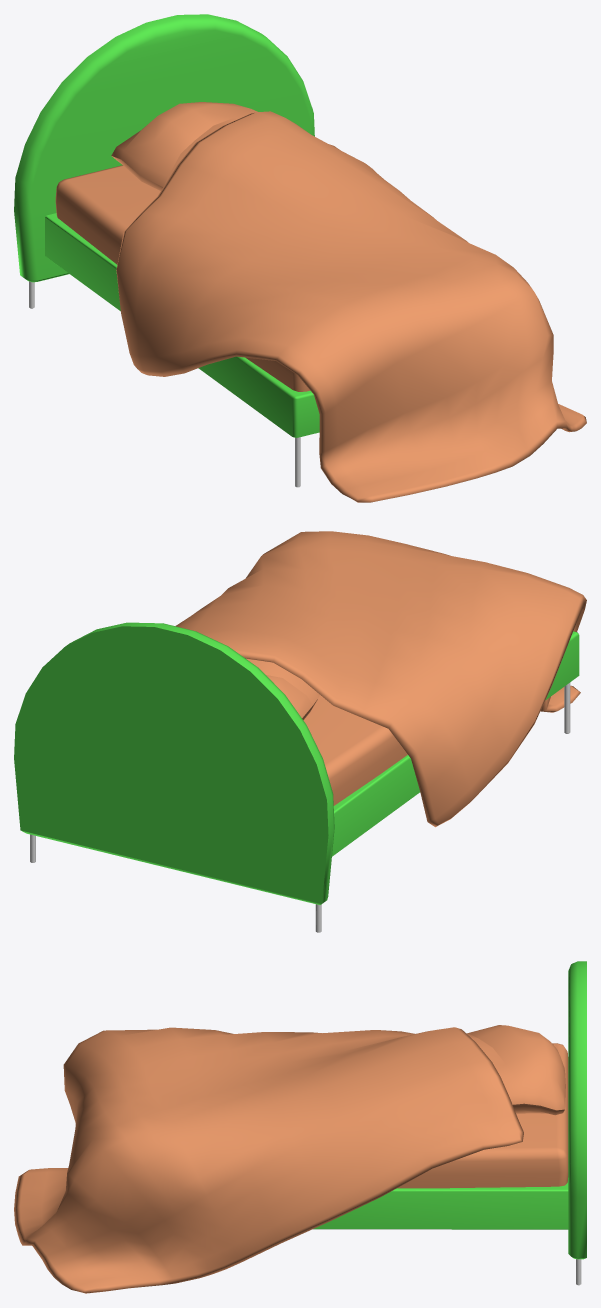
The model's file is bed.fbx.
The picture shows the model from 3 angles, top to bottom: view 1: azimuth 30°, elevation 25°; view 2: azimuth 150°, elevation 25°; view 3: azimuth 270°, elevation 25°; orthographic projection. The views are drawn at different scales.
Visible parts, largest first — view 1: Plane.001, bed; view 2: bed, Plane.001; view 3: Plane.001, bed.
Boxes of the visible parts, <box> form: Plane.001: <box>111,102,586,502</box>; bed: <box>14,14,319,487</box>; bed: <box>14,622,579,932</box>; Plane.001: <box>175,531,586,827</box>; Plane.001: <box>14,1025,565,1293</box>; bed: <box>313,961,586,1285</box>.
Bounding box in the file's own units: 0.9749 × 0.7275 × 1.55.
